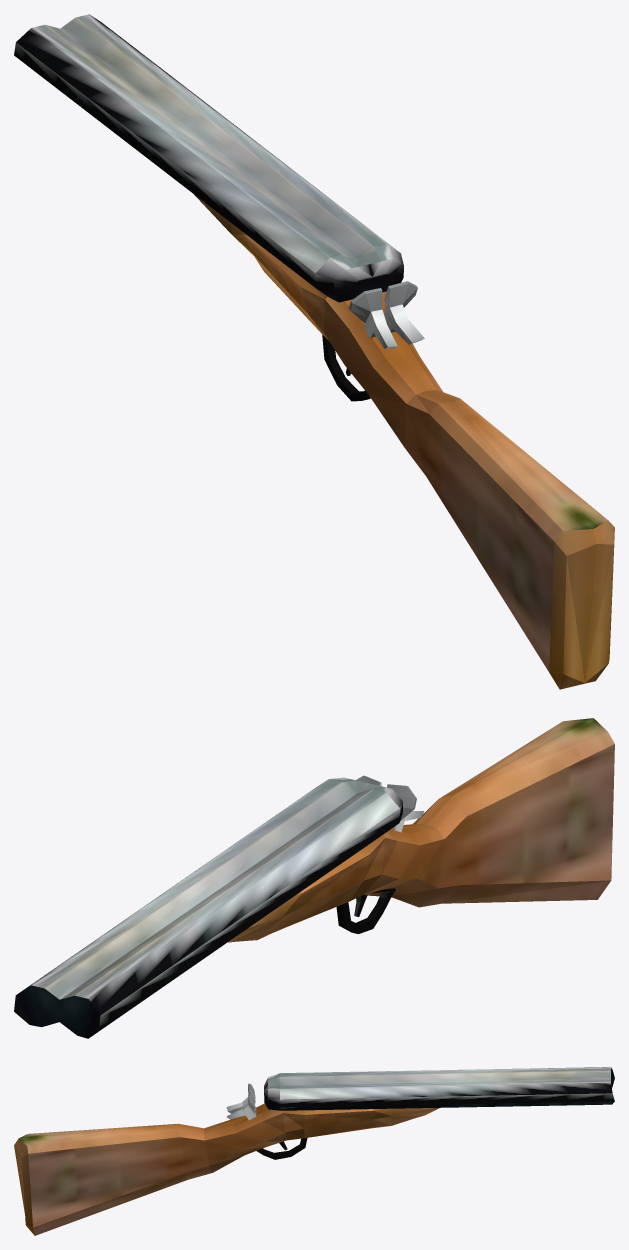
File: shoot0033.obj
3 views of the same model, one above another, from view 1: azimuth 30°, elevation 25°; view 2: azimuth 150°, elevation 25°; view 3: azimuth 270°, elevation 25° (orthographic). The views are drawn at different scales.
Parts seen in each view (by area): view 1: Cube, Cube.001, Cube.003, Cube.002; view 2: Cube, Cube.001, Cube.002, Cube.003; view 3: Cube, Cube.001, Cube.003, Cube.002.
Part boxes in pixels (x1,y1,x2,y2): Cube: (194,194,614,689); Cube.001: (14,14,403,302); Cube.003: (349,281,424,348); Cube.002: (322,335,370,401); Cube: (228,718,614,942); Cube.001: (14,777,402,1038); Cube.002: (336,888,395,933); Cube.003: (356,775,424,832); Cube: (14,1103,439,1235); Cube.001: (264,1067,614,1110); Cube.003: (226,1083,256,1120); Cube.002: (256,1138,307,1159).
Bounding box in the file's own units: 0.2066 × 0.6521 × 2.26.
1 material, 1 textured.
